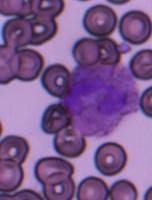E: (60, 63, 138, 137)
